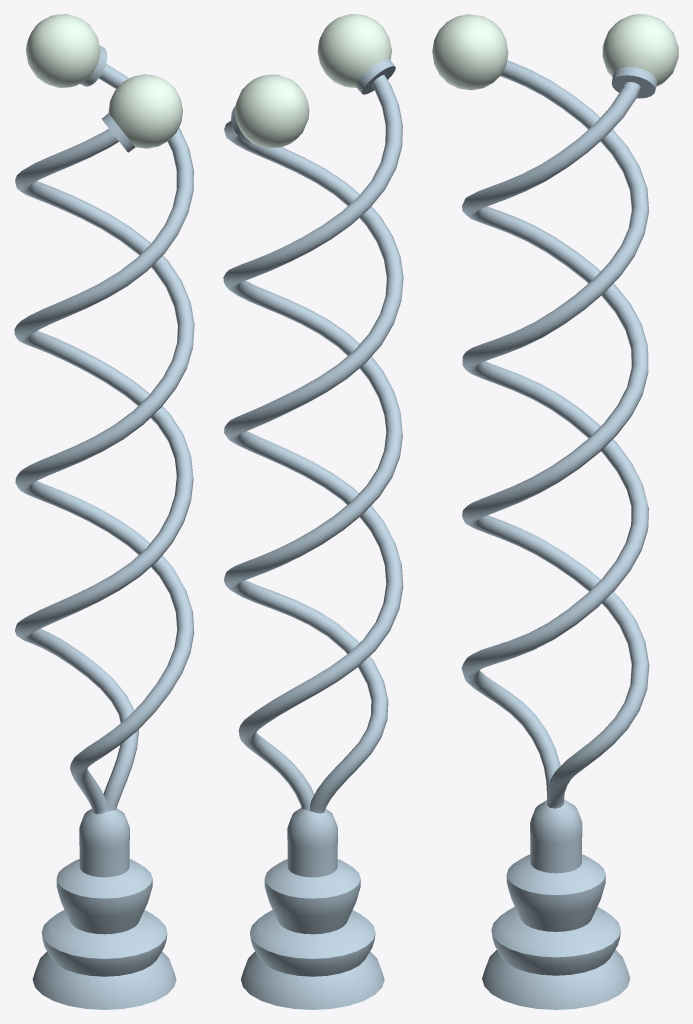
File: streetlight_24.fbx
3 views of the same model, side by side, from view 1: azimuth 30°, elevation 25°; view 2: azimuth 150°, elevation 25°; view 3: azimuth 270°, elevation 25° (orthographic). The views are drawn at different scales.
Visible parts, largest first — view 1: streetlight_24, corker2, corker1, pSphere25 (×2); view 2: streetlight_24, corker2, corker1, pSphere25 (×2); view 3: streetlight_24, corker1, corker2, pSphere25 (×2).
Boxes of the visible parts, <box> form: streetlight_24: <box>32,808,176,1009</box>; corker2: <box>15,128,194,814</box>; corker1: <box>14,64,193,810</box>; pSphere25 (×2): <box>26,14,182,152</box>; streetlight_24: <box>240,808,384,1009</box>; corker2: <box>223,75,402,813</box>; corker1: <box>224,120,403,810</box>; pSphere25 (×2): <box>231,14,395,148</box>; streetlight_24: <box>482,799,630,1009</box>; corker1: <box>462,82,649,808</box>; corker2: <box>461,60,649,795</box>; pSphere25 (×2): <box>432,14,678,98</box>.
Bounding box in the file's own units: 1.45 × 8.19 × 1.9.
